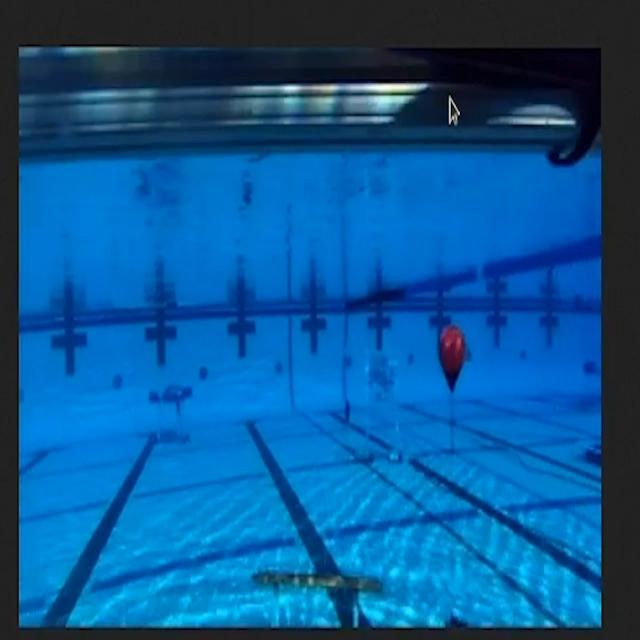Buoy: (437, 316, 468, 394)
